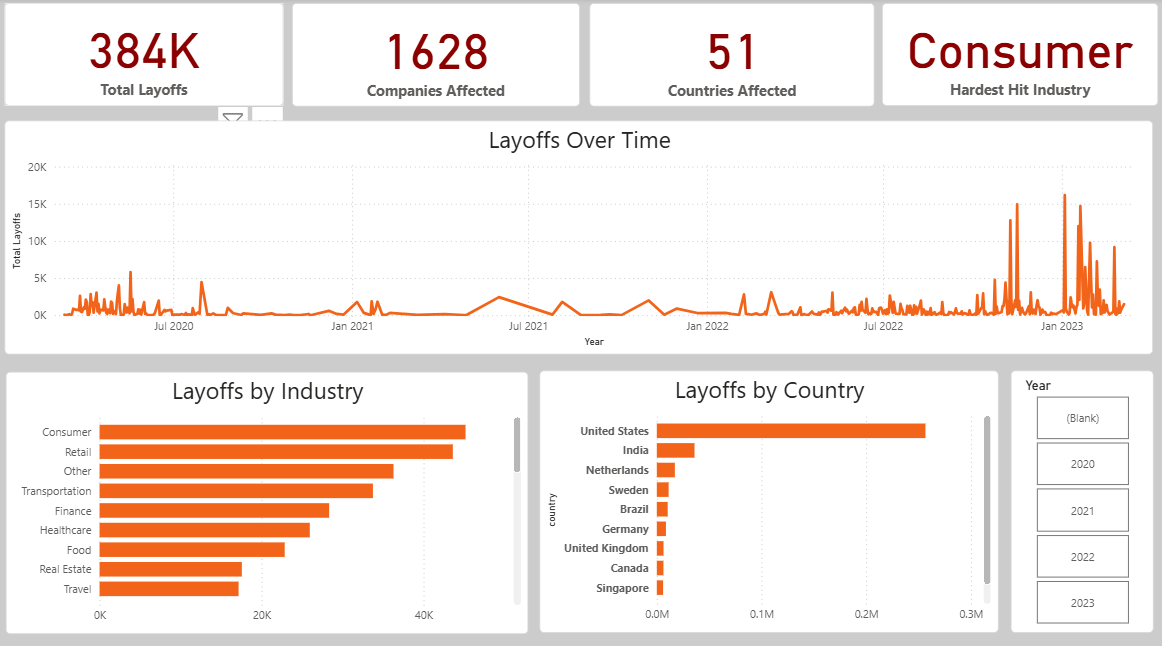

What the dashboard file says about the page in this screenshot:
{"tool":"powerbi","page":{"name":"overview","canvas":[1280,720],"ordinal":0},"visuals":[{"type":"card","fields":{"Values":["layoffs_Cleaned.Total Layoffs"]},"box":[8.2,5.5,306,112.5],"z":0},{"type":"card","fields":{"Values":["layoffs_Cleaned.Companies Affected"]},"box":[323.8,5.5,315.6,113.9],"z":1000},{"type":"card","fields":{"Values":["layoffs_Cleaned.Countries Affected"]},"box":[650.4,5.5,312.9,113.9],"z":2000},{"type":"card","fields":{"Values":["layoffs_Cleaned.Hardest Hit Industry"]},"box":[971.5,5.5,303.3,112.5],"z":3000},{"type":"lineChart","title":"Layoffs Over Time","fields":{"Category":["DateTable.Date.Variation.Date Hierarchy.Year","DateTable.Date.Variation.Date Hierarchy.Quarter","DateTable.Date.Variation.Date Hierarchy.Month","DateTable.Date.Variation.Date Hierarchy.Day"],"Y":["layoffs_Cleaned.Total Layoffs"]},"box":[8.2,134.5,1261.1,256.6],"z":4000},{"type":"clusteredBarChart","title":"Layoffs by Country","fields":{"Category":["layoffs_Cleaned.country"],"Y":["layoffs_Cleaned.Total Layoffs"]},"box":[595.5,408.9,503.6,288.2],"z":5000},{"type":"clusteredBarChart","title":"Layoffs by Industry","fields":{"Category":["layoffs_Cleaned.industry"],"Y":["layoffs_Cleaned.Total Layoffs"]},"box":[9.6,410.3,573.6,288.2],"z":6000},{"type":"slicer","fields":{"Values":["DateTable.Year"]},"box":[1112.9,408.9,156.4,288.2],"z":7001}]}

Visuals, with their boxes in screenshot pixels (x1, y1, x2, y2), scaled from the page's 1280x720 canvas onto the 1162x646 screenshot:
card - layoffs_Cleaned.Total Layoffs: Rect(7, 5, 285, 106)
card - layoffs_Cleaned.Companies Affected: Rect(294, 5, 580, 107)
card - layoffs_Cleaned.Countries Affected: Rect(590, 5, 874, 107)
card - layoffs_Cleaned.Hardest Hit Industry: Rect(882, 5, 1157, 106)
"Layoffs Over Time" lineChart: Rect(7, 121, 1152, 351)
"Layoffs by Country" clusteredBarChart: Rect(541, 367, 998, 625)
"Layoffs by Industry" clusteredBarChart: Rect(9, 368, 529, 627)
slicer - DateTable.Year: Rect(1010, 367, 1152, 625)
